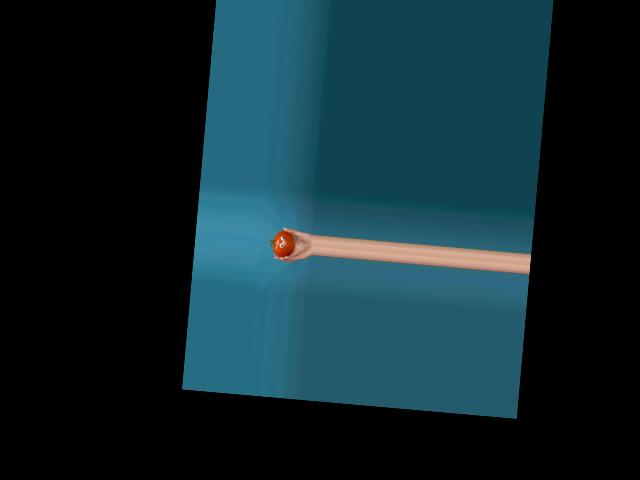tomato: (272, 229, 296, 258)
